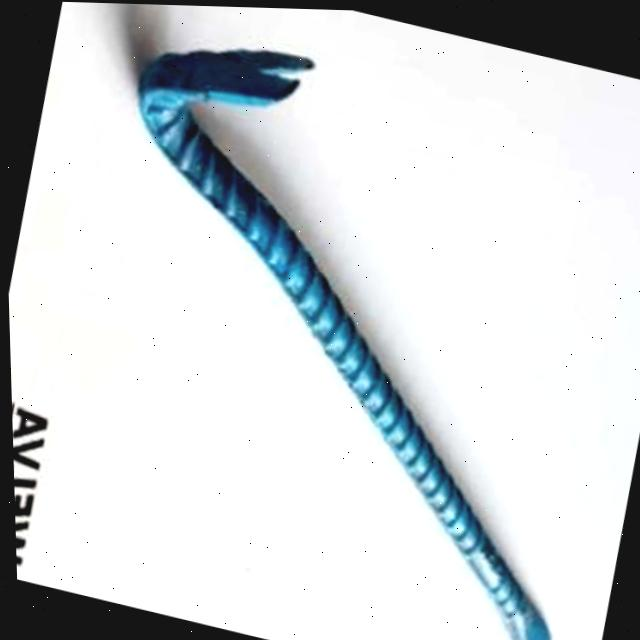crow bar: (127, 50, 524, 640)
